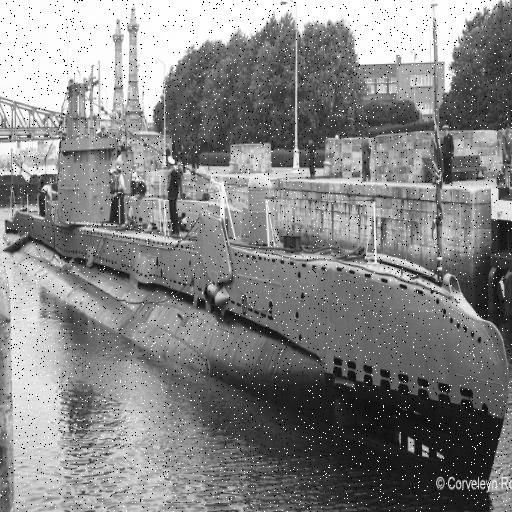submarine: (7, 42, 505, 476)
